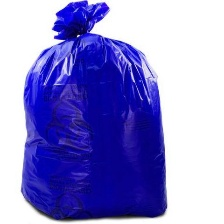plastic_bag: (10, 0, 171, 223)
